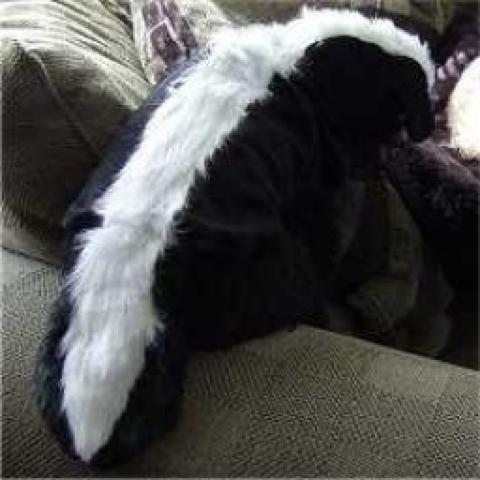small_animal: (39, 11, 450, 460)
